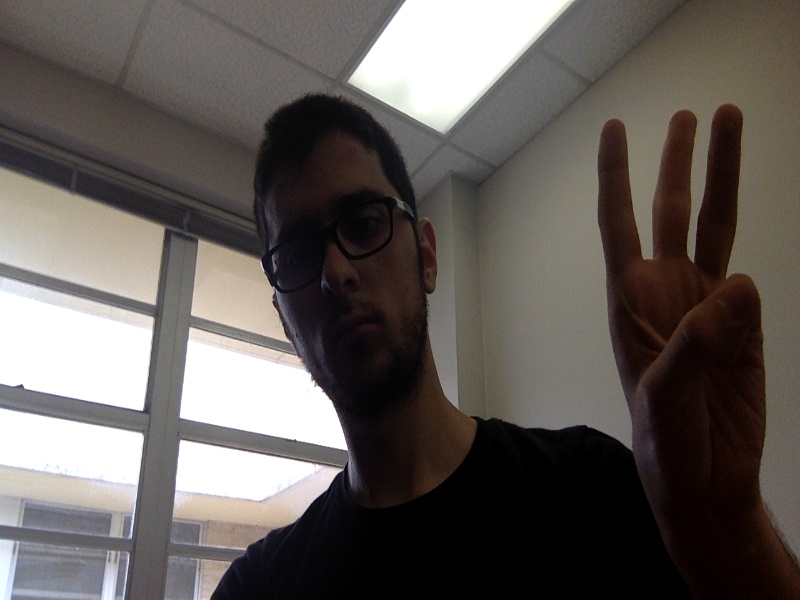3-hand: (597, 104, 768, 477)
